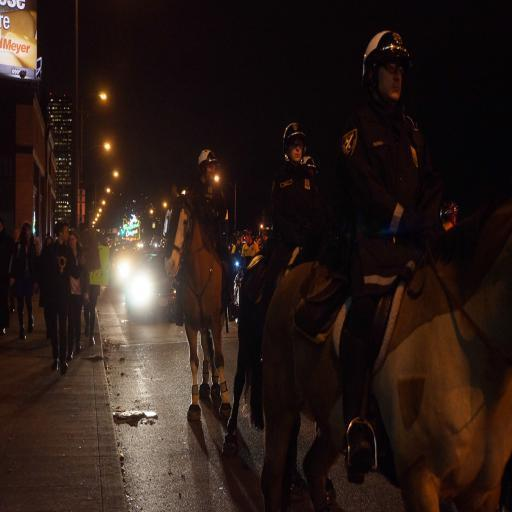horse: (257, 202, 512, 512), (220, 246, 322, 458), (164, 184, 231, 422)
